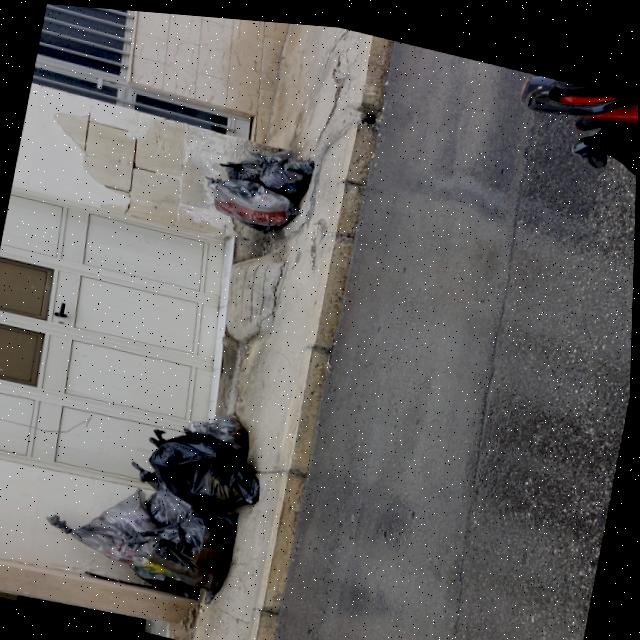Mixed Waste -Black Bag-: (137, 415, 276, 517), (124, 485, 245, 602), (46, 468, 172, 568), (196, 167, 306, 238), (219, 133, 320, 197), (185, 395, 259, 450), (257, 145, 323, 194), (129, 560, 204, 597), (146, 482, 203, 529), (130, 458, 170, 489)
